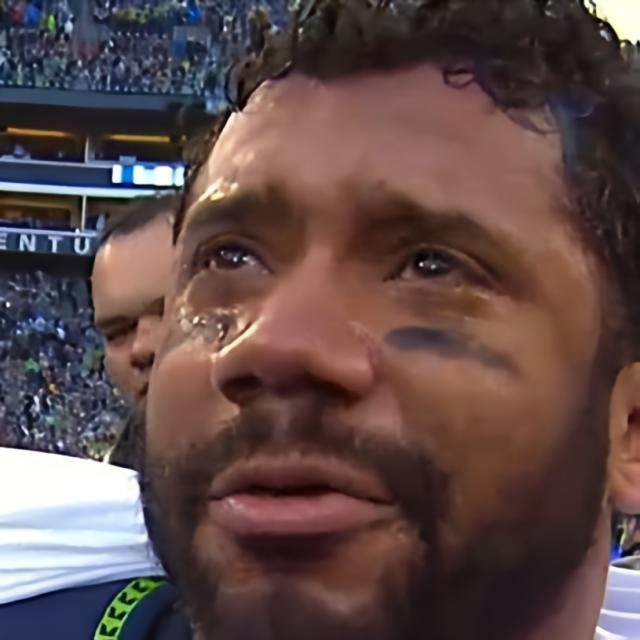sad: (138, 60, 610, 636)
